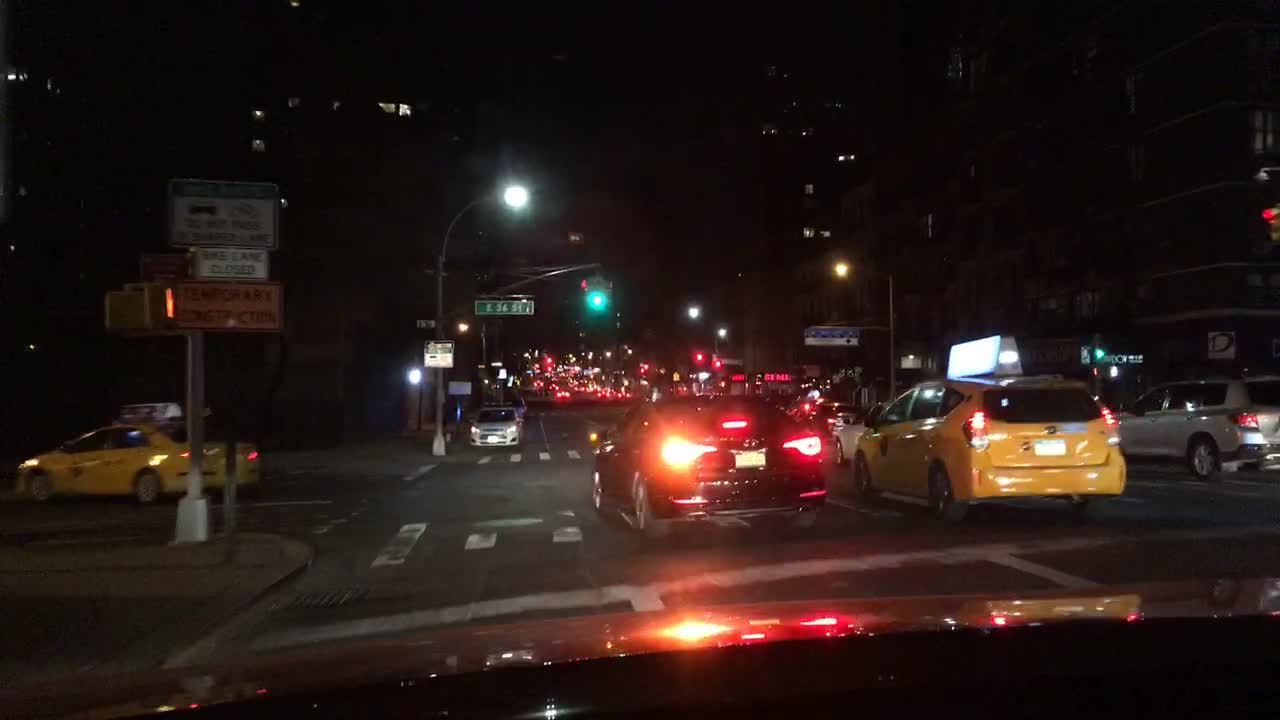car: (855, 334, 1126, 519), (591, 394, 824, 536), (13, 399, 260, 506), (1114, 371, 1278, 481), (838, 404, 880, 467), (467, 404, 524, 450), (811, 401, 855, 432), (788, 391, 826, 421), (556, 385, 571, 399), (532, 377, 543, 390), (575, 381, 586, 391), (547, 380, 557, 389)
traffic light: (104, 289, 142, 331), (150, 283, 174, 329), (1260, 205, 1277, 242), (581, 279, 591, 308), (1094, 338, 1105, 364), (409, 366, 424, 385), (593, 277, 602, 306), (605, 278, 613, 310), (1090, 366, 1103, 381), (1109, 365, 1120, 379), (712, 359, 721, 369), (696, 351, 703, 363)
traffic sign: (172, 180, 277, 243), (177, 281, 281, 333), (195, 247, 267, 280), (806, 331, 860, 345), (422, 340, 451, 366), (476, 301, 532, 313), (173, 257, 187, 276), (416, 321, 436, 329), (672, 371, 681, 381), (491, 360, 502, 368)
